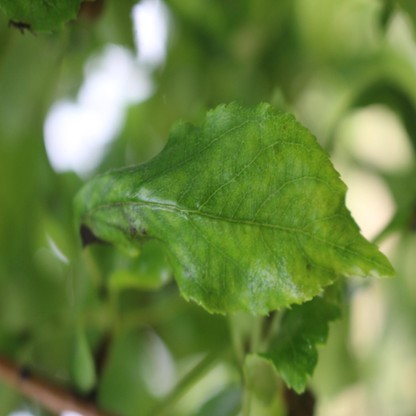scab: (80, 102, 390, 312)
